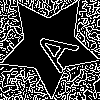A: (24, 20, 80, 75)
